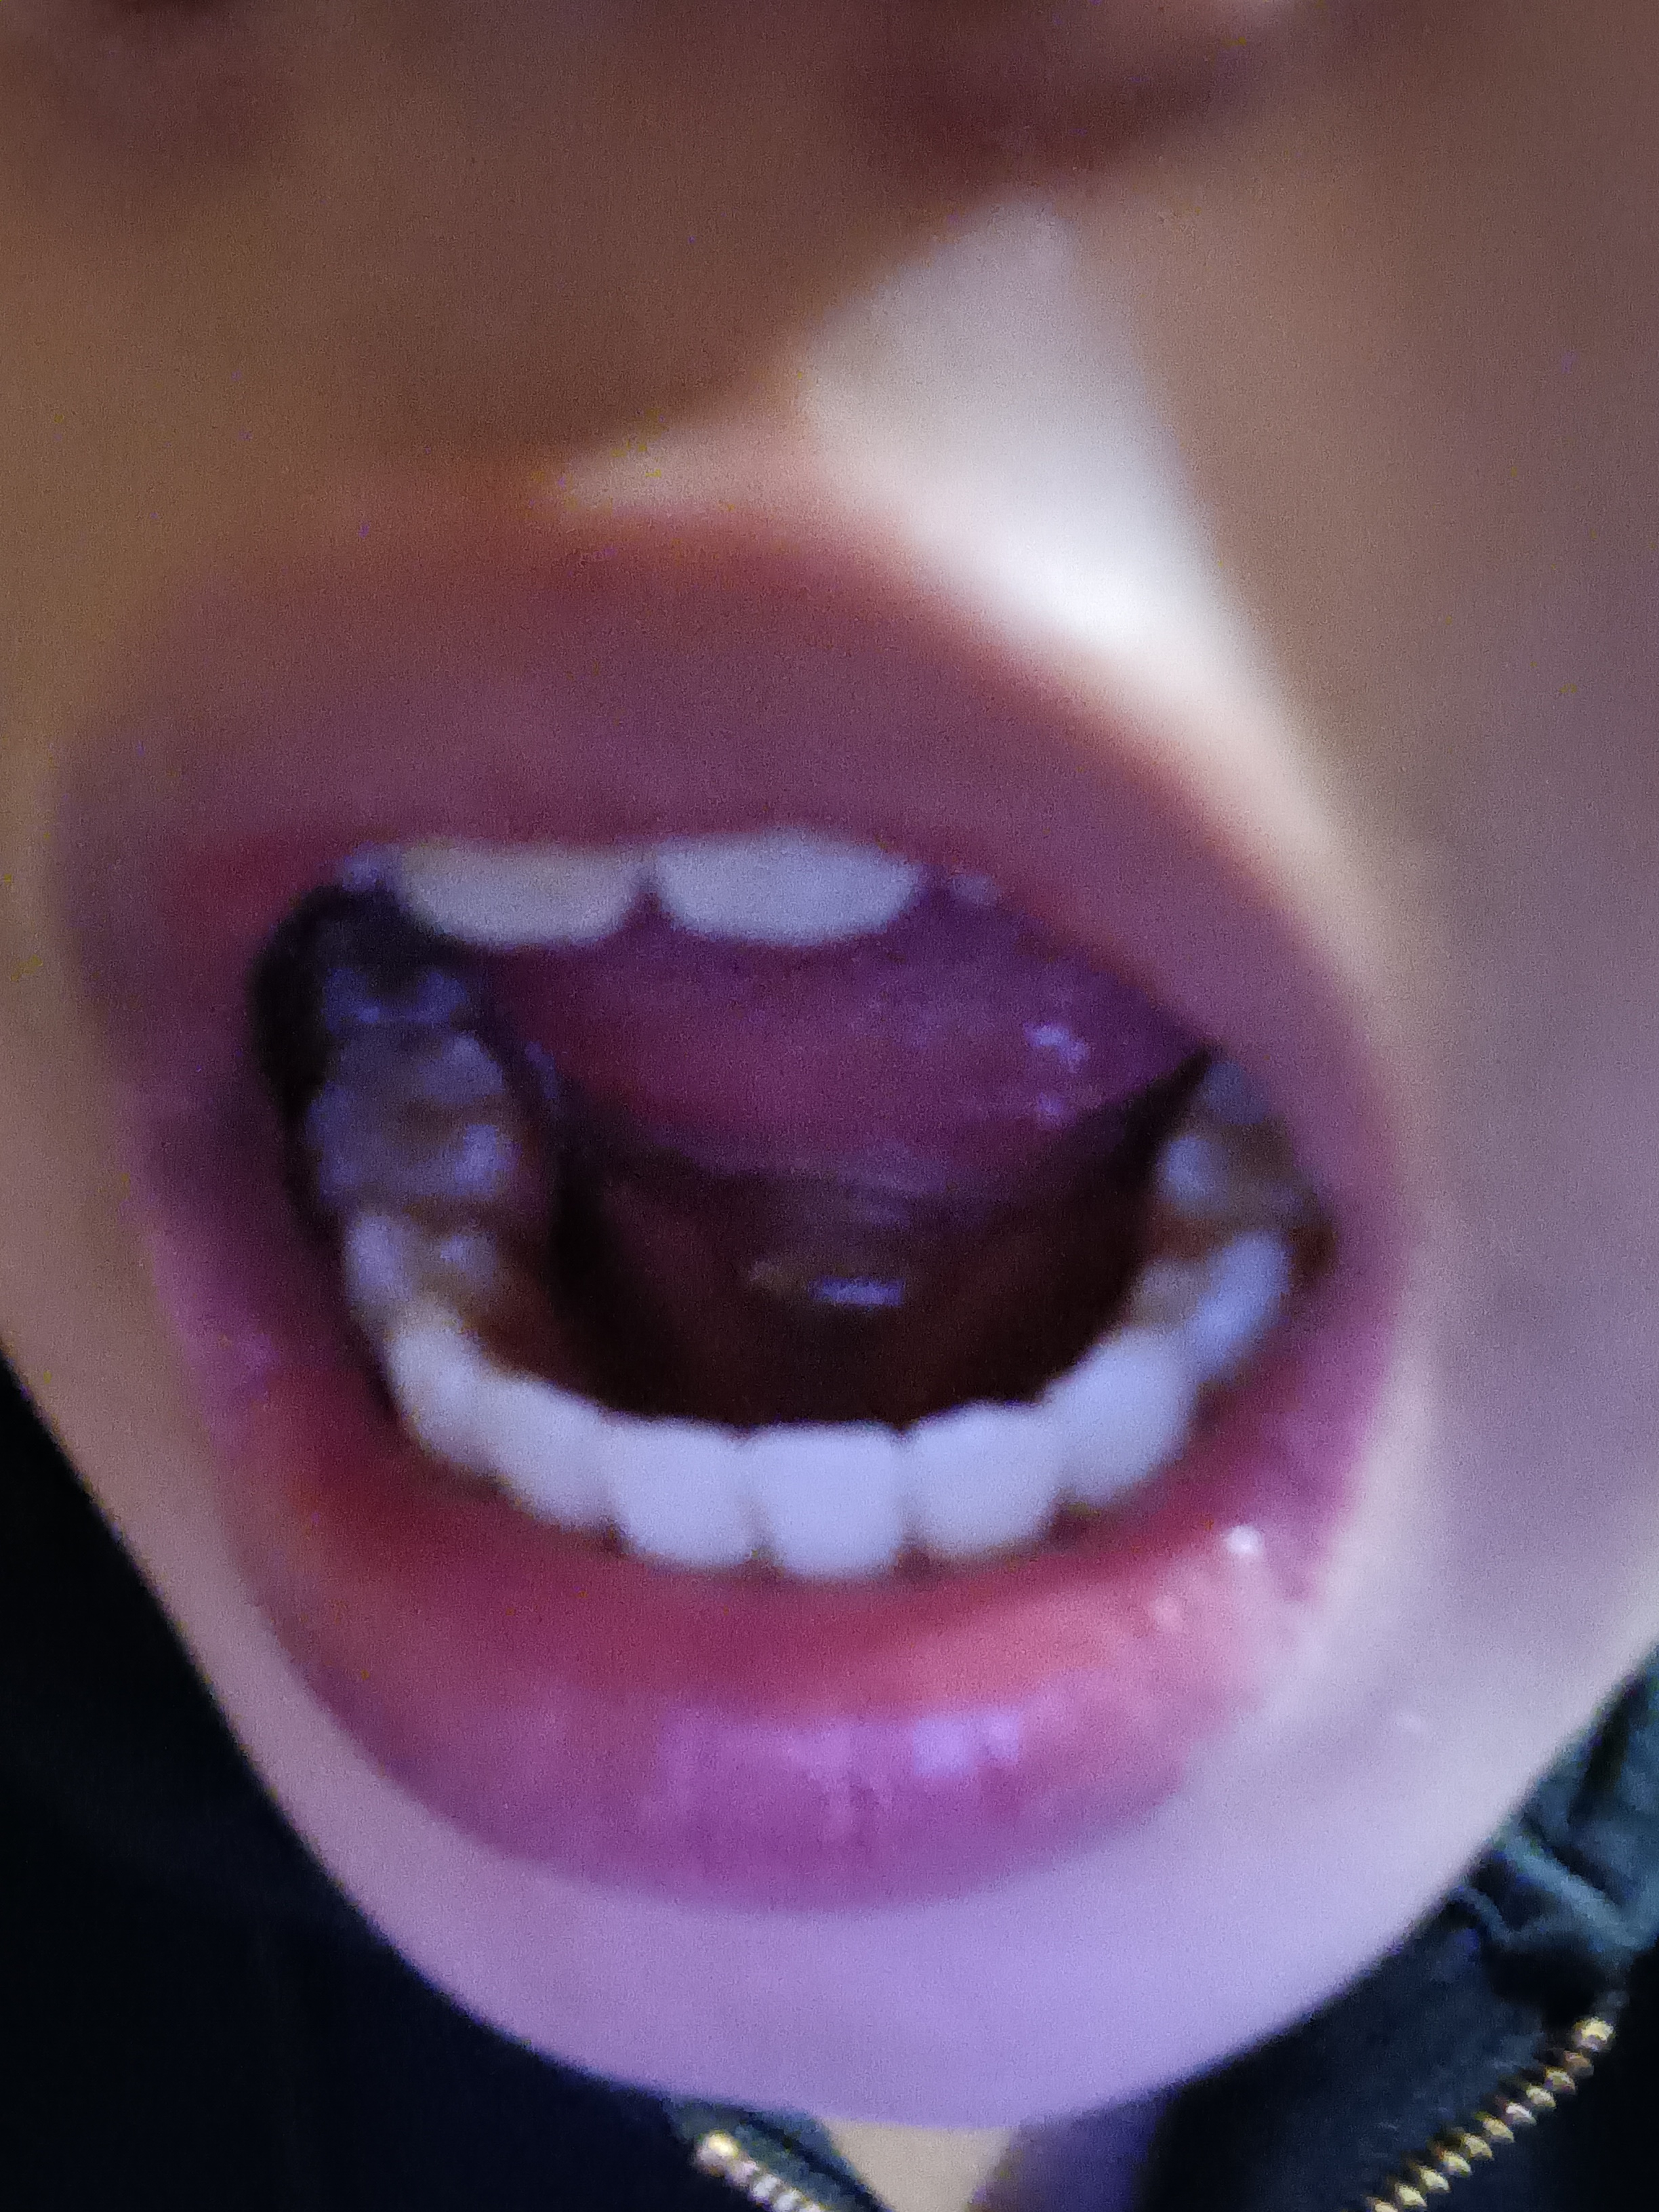teeth: (314, 1045, 523, 1214), (641, 833, 934, 935), (903, 1402, 1058, 1562), (1053, 1320, 1190, 1496), (389, 841, 633, 935), (1127, 1230, 1284, 1374), (1180, 1049, 1309, 1211), (760, 1421, 896, 1573), (471, 1374, 598, 1527), (610, 1428, 749, 1562), (359, 1211, 498, 1331), (317, 918, 465, 1026), (390, 1292, 472, 1474)
